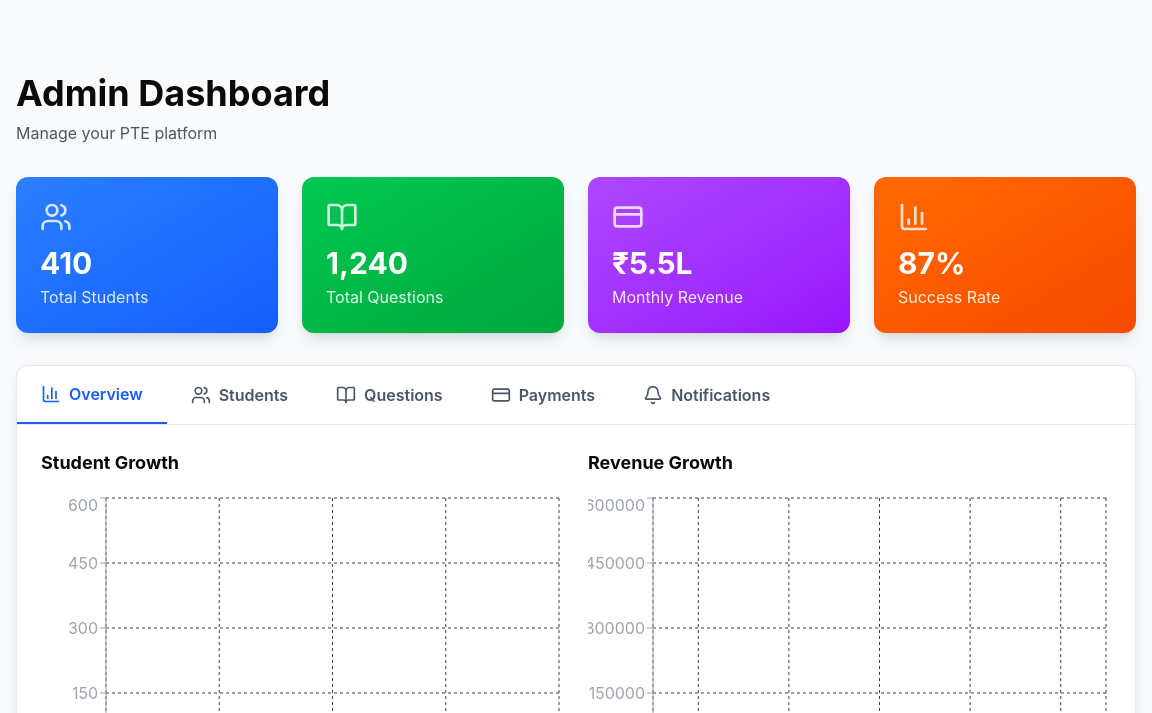
Scenario: AdminPanel › Question CRUD Management UI › displays validation error on empty fields submission
What coordinates should you click on to do the following:
click the button "Questions"
I would click on:
 (389, 395)
Its box is [312,366,467,424].
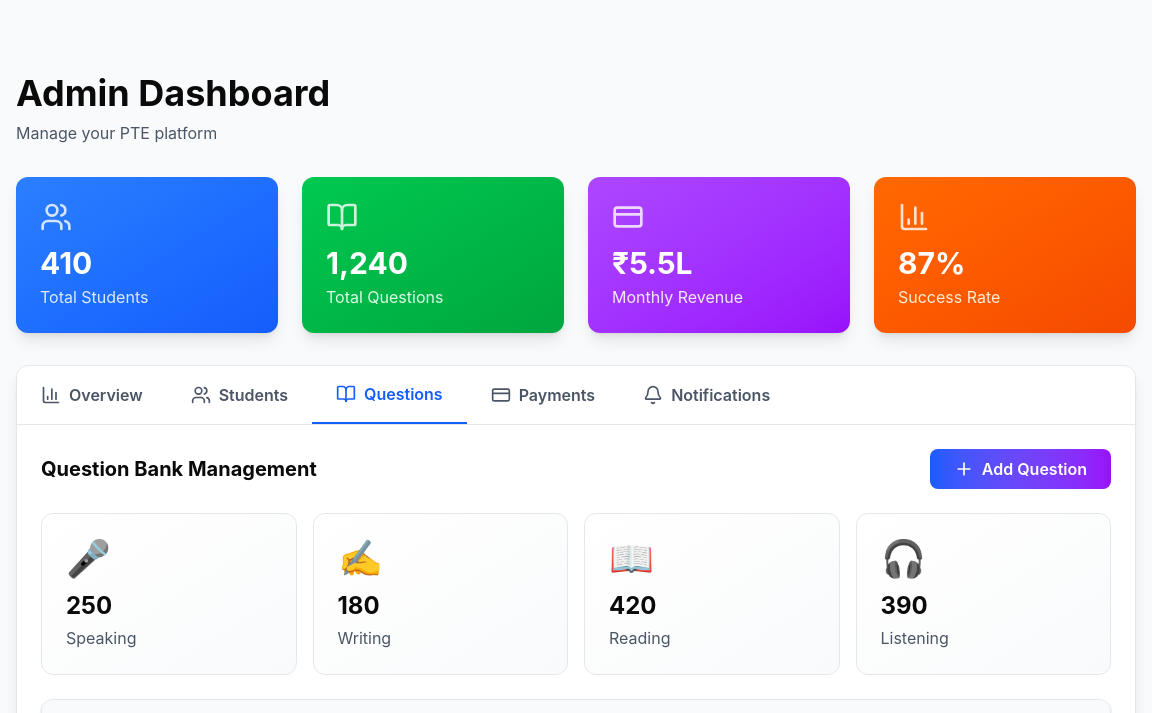
Check: the button "Add Question" is shown
What coordinates should you click on to do the following:
click the button "Add Question"
I would click on:
 (1020, 469)
Its box is [930,449,1111,489].
(page scrolled)
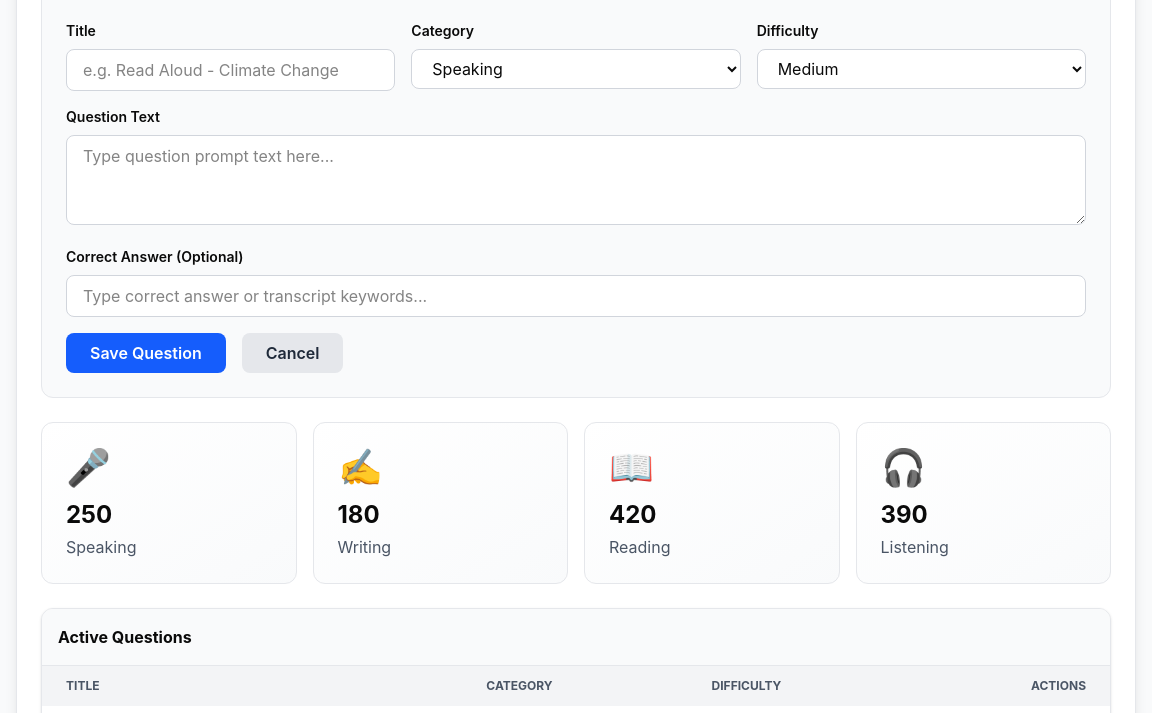
Note: Click save without filling fields
What coordinates should you click on to do the following:
click the button "Save Question"
I would click on:
 (146, 353)
Its box is [66,333,226,373].
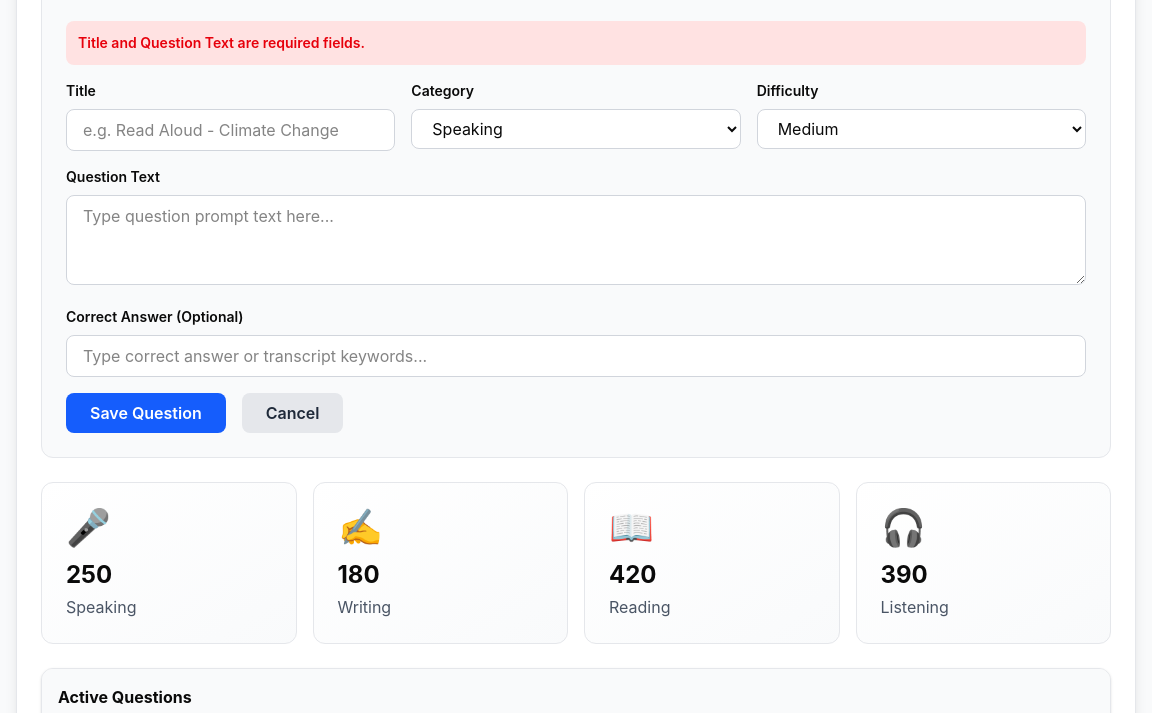
Check: the text "Title and Question Text are required fields." is shown, box [66,21,1086,65]
